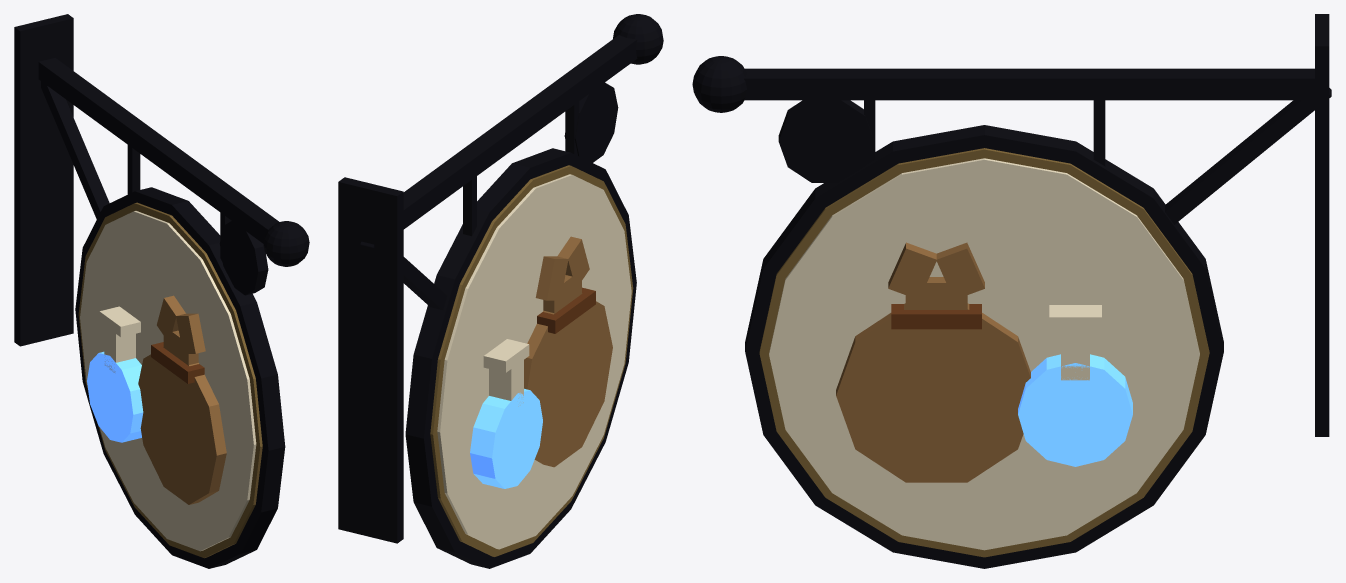
Rendered from shop_general_sign.gltf.
The picture shows the model from 3 angles, left to right: view 1: azimuth 30°, elevation 25°; view 2: azimuth 150°, elevation 25°; view 3: azimuth 270°, elevation 25°; orthographic projection. The views are drawn at different scales.
Parts seen in each view (by area): view 1: ShopGeneralSignShopIron, ShopGeneralSignShopCream, ShopGeneralSignShopWoodLight, ShopGeneralSignShopCloth, ShopGeneralSignShopPotionBlue, ShopGeneralSignShopLeather; view 2: ShopGeneralSignShopIron, ShopGeneralSignShopCream, ShopGeneralSignShopWoodLight, ShopGeneralSignShopPotionBlue, ShopGeneralSignShopCloth, ShopGeneralSignShopLeather; view 3: ShopGeneralSignShopCream, ShopGeneralSignShopIron, ShopGeneralSignShopWoodLight, ShopGeneralSignShopCloth, ShopGeneralSignShopPotionBlue, ShopGeneralSignShopLeather.
Part boxes in pixels (x1,y1,x2,y2): ShopGeneralSignShopIron: (14, 14, 309, 568); ShopGeneralSignShopCream: (80, 211, 256, 551); ShopGeneralSignShopWoodLight: (138, 295, 226, 504); ShopGeneralSignShopCloth: (78, 202, 262, 558); ShopGeneralSignShopPotionBlue: (87, 351, 143, 442); ShopGeneralSignShopLeather: (151, 342, 204, 383); ShopGeneralSignShopIron: (338, 14, 663, 568); ShopGeneralSignShopCream: (437, 174, 631, 549); ShopGeneralSignShopWoodLight: (524, 236, 612, 467); ShopGeneralSignShopPotionBlue: (470, 388, 542, 488); ShopGeneralSignShopCloth: (430, 165, 633, 556); ShopGeneralSignShopLeather: (537, 287, 595, 333); ShopGeneralSignShopCream: (769, 158, 1199, 550); ShopGeneralSignShopIron: (692, 14, 1331, 568); ShopGeneralSignShopWoodLight: (836, 242, 1030, 482); ShopGeneralSignShopCloth: (759, 148, 1209, 557); ShopGeneralSignShopPotionBlue: (1018, 354, 1132, 466); ShopGeneralSignShopLeather: (891, 304, 981, 329).
Bounding box in the file's own units: 0.2 × 1.23 × 1.33.
